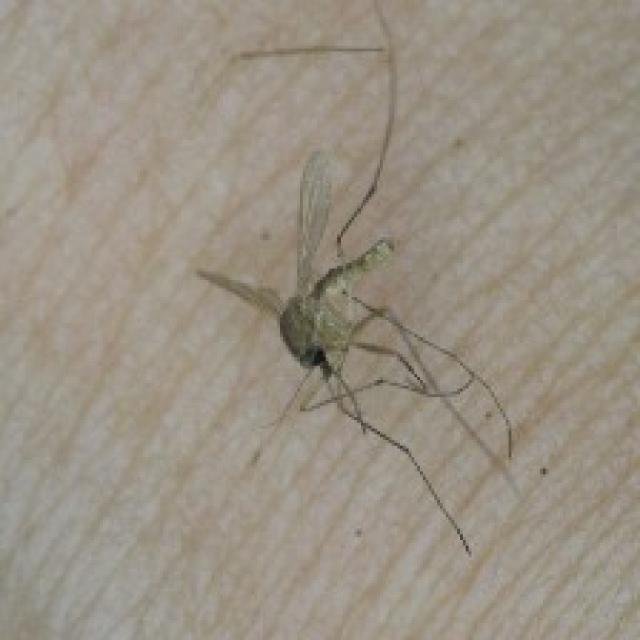culex: (191, 0, 519, 554)
